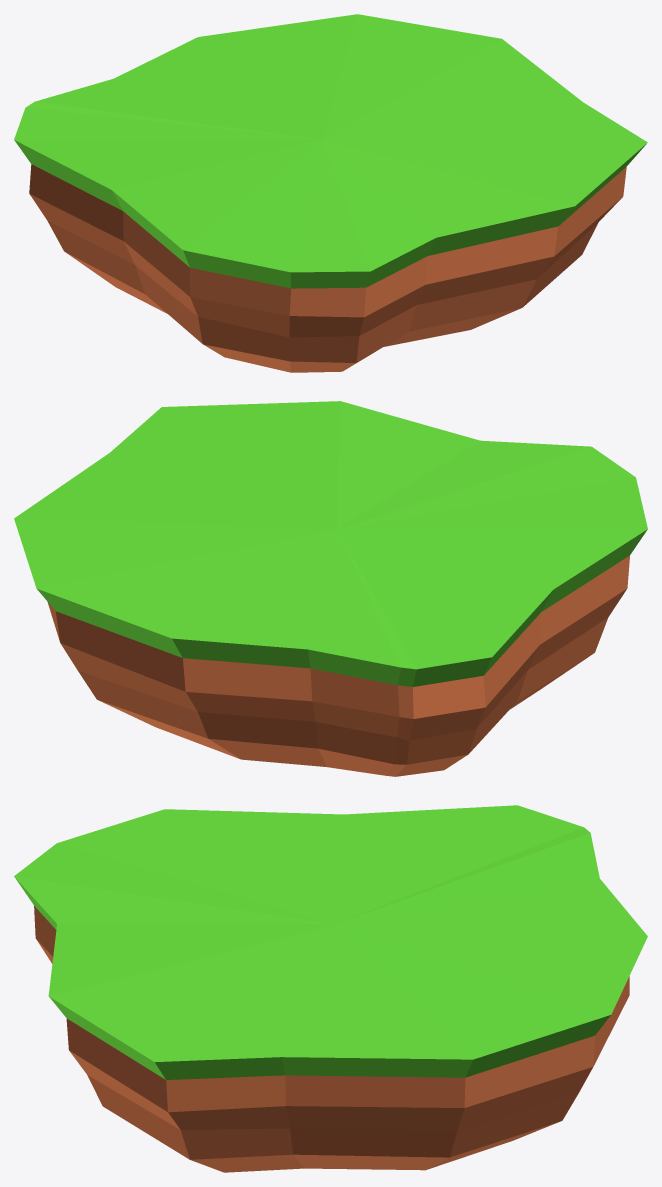
Rendered from Island8.fbx.
3 views of the same model, one above another, from view 1: azimuth 30°, elevation 25°; view 2: azimuth 150°, elevation 25°; view 3: azimuth 270°, elevation 25° (orthographic). The views are drawn at different scales.
Visible parts, largest first — view 1: Island 8; view 2: Island 8; view 3: Island 8.
Part boxes in pixels (x1,y1,x2,y2): Island 8: [14, 14, 647, 372]; Island 8: [14, 401, 647, 776]; Island 8: [14, 805, 647, 1172].
Size of the model in its own units: 1760 by 688 by 1829.
